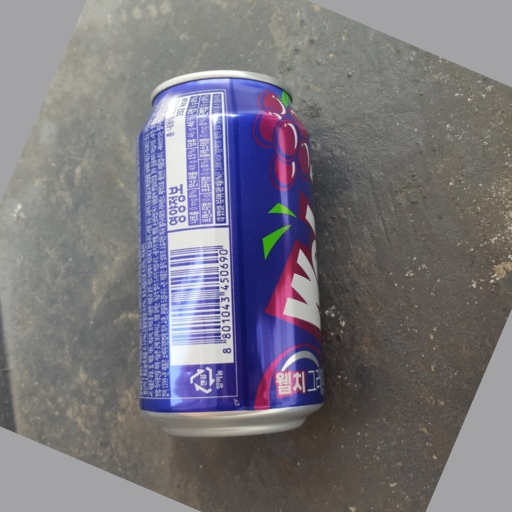Metal_0: (133, 66, 325, 439)
